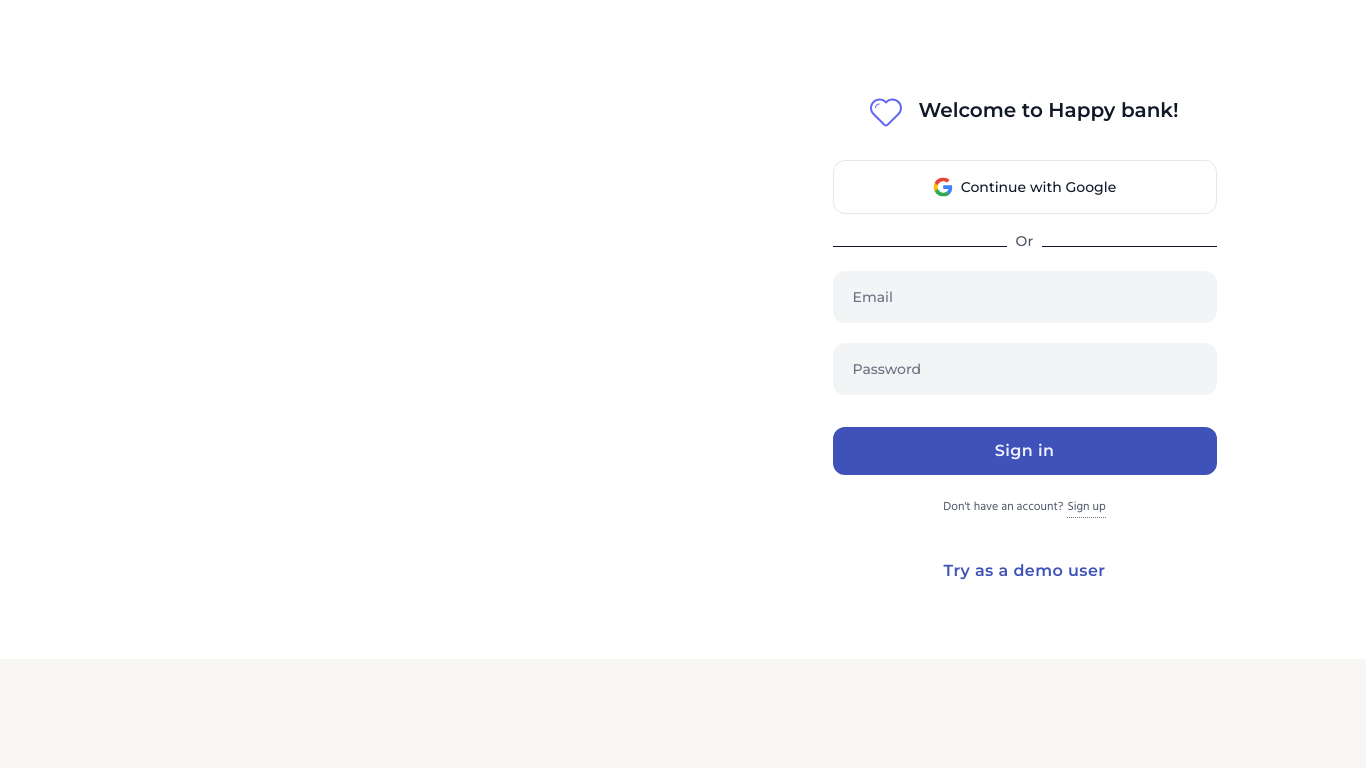
Test: SignIn › fills email and password fields when Try as a demo user button is clicked
Check: the field labelled "Email" is empty, box [832,271,1216,323]
Check: the password field labelled "Password" is empty, box [832,343,1216,395]
Click the button "Try as a demo user" at (1025, 571), box [944,547,1106,595]
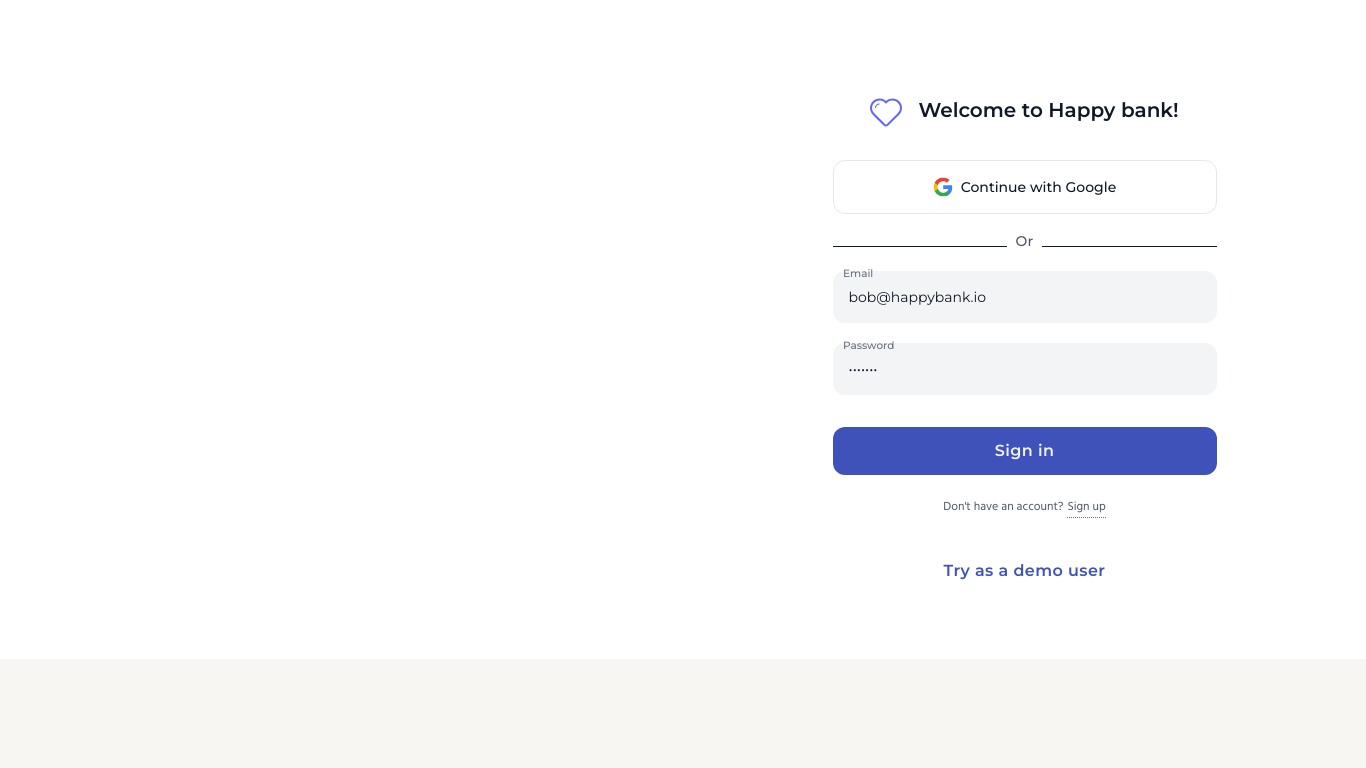
Check: the field labelled "Email" holds "bob@happybank.io", box [832,271,1216,323]
Check: the password field labelled "Password" holds "bob123!", box [832,343,1216,395]
